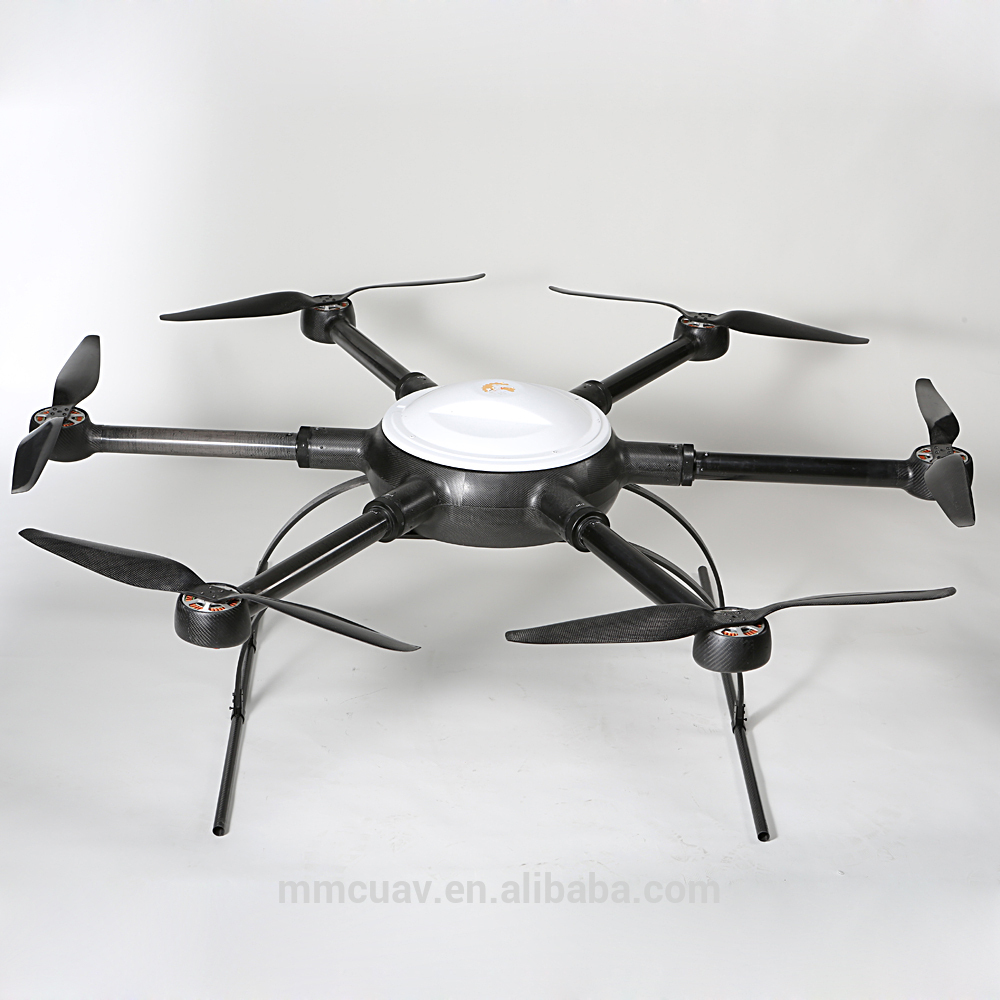drone_rotary_wing: (16, 525, 424, 659), (505, 586, 960, 673), (548, 282, 871, 362), (161, 274, 487, 318), (12, 334, 101, 493), (903, 377, 980, 530)
